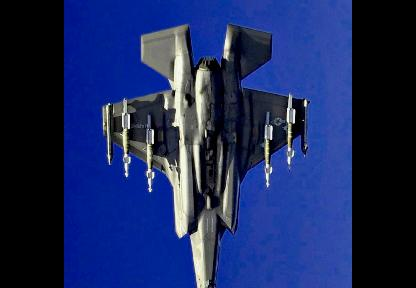F22: (102, 24, 311, 285)
